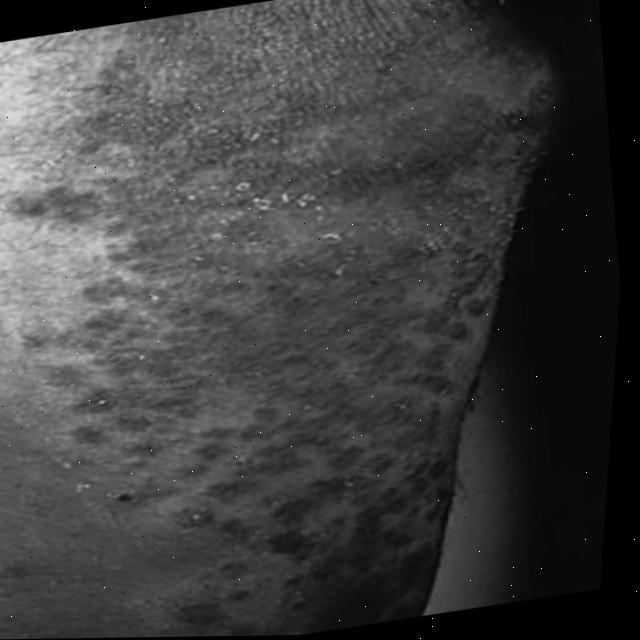Eczema: (28, 32, 529, 588)
